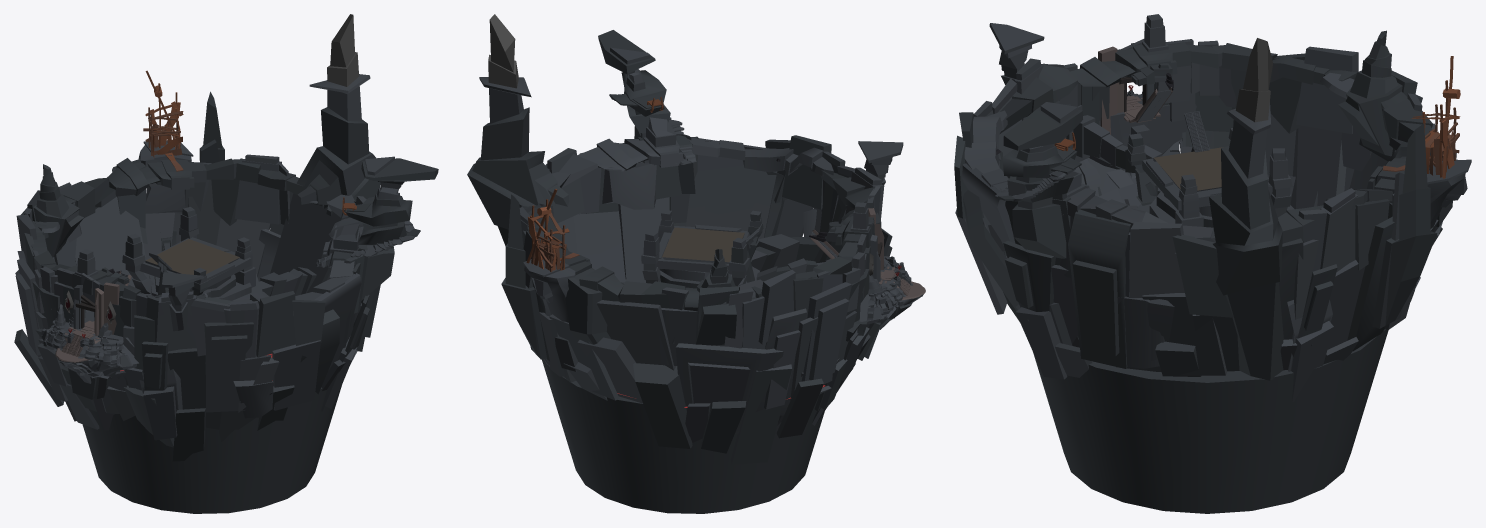
The picture shows the model from 3 angles, left to right: view 1: azimuth 30°, elevation 25°; view 2: azimuth 150°, elevation 25°; view 3: azimuth 270°, elevation 25°; orthographic projection. The views are drawn at different scales.
Visible parts, largest first — view 1: segment_1; view 2: segment_1; view 3: segment_1.
Boxes of the visible parts, x1,y1,x2,y2 form: segment_1: (14,14,438,513); segment_1: (467,14,925,513); segment_1: (954,14,1471,513).
Bounding box in the file's own units: 91.2 × 92.7 × 83.32.
